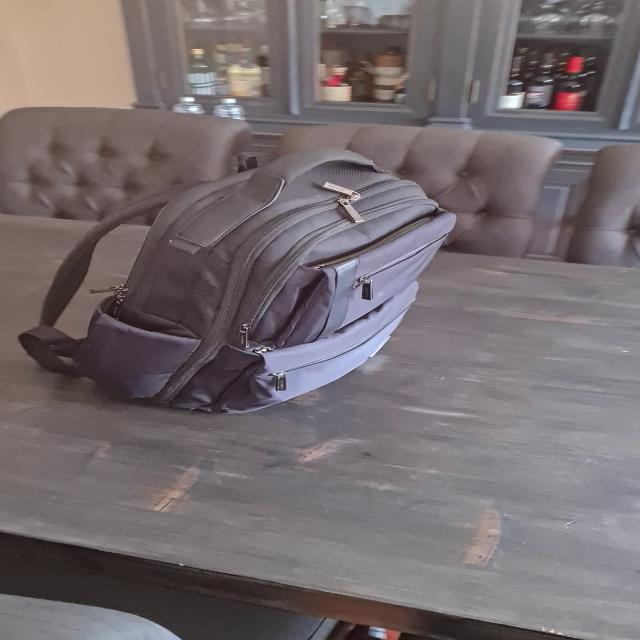backpack: (49, 142, 466, 415)
